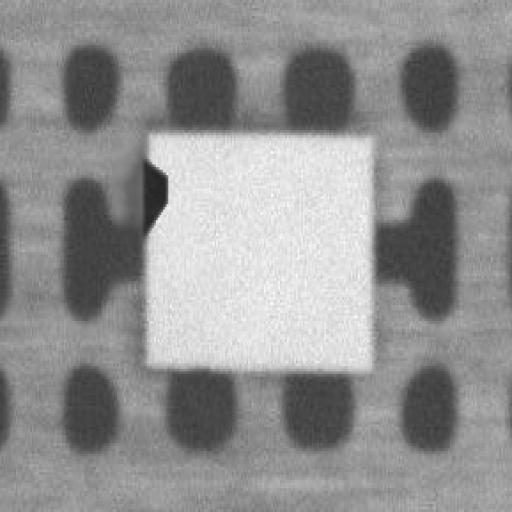DIE_BROKEN: (136, 146, 166, 241)
